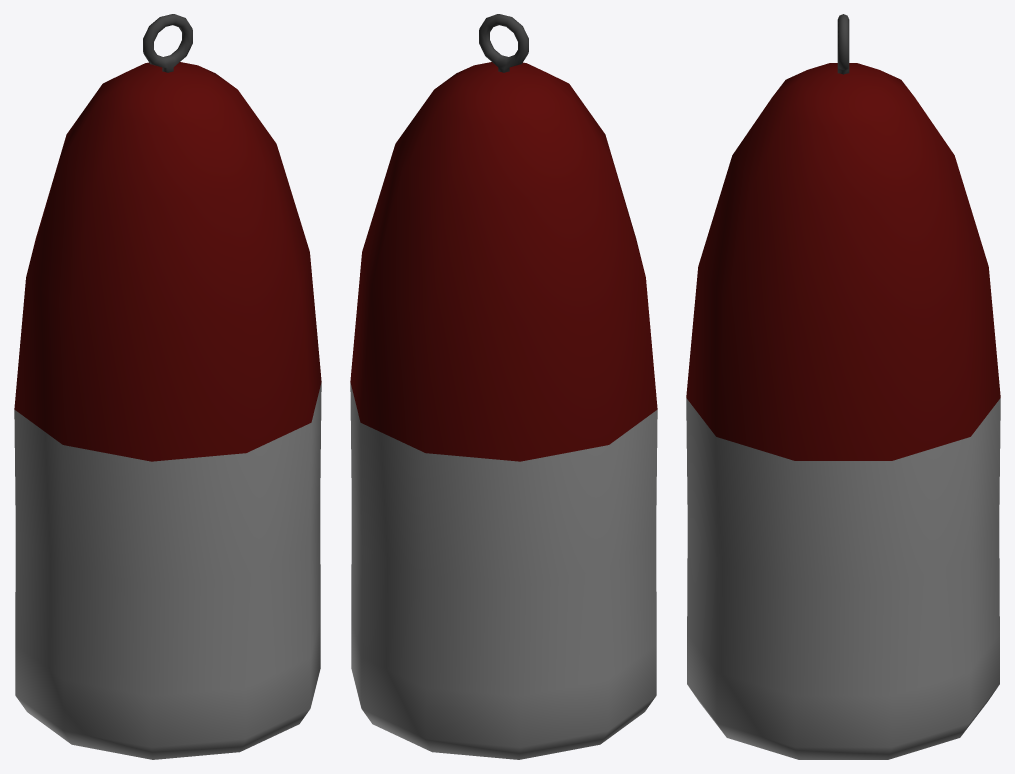
Rendered from buoy.obj.
3 views of the same model, side by side, from view 1: azimuth 30°, elevation 25°; view 2: azimuth 150°, elevation 25°; view 3: azimuth 270°, elevation 25° (orthographic).
Visible parts, largest first — view 1: Buoy; view 2: Buoy; view 3: Buoy.
Part boxes in pixels (x1,y1,x2,y2): Buoy: (14, 14, 321, 759); Buoy: (350, 14, 657, 759); Buoy: (686, 14, 1000, 759).
Size of the model in its own units: 1.9 by 4.8 by 2.
